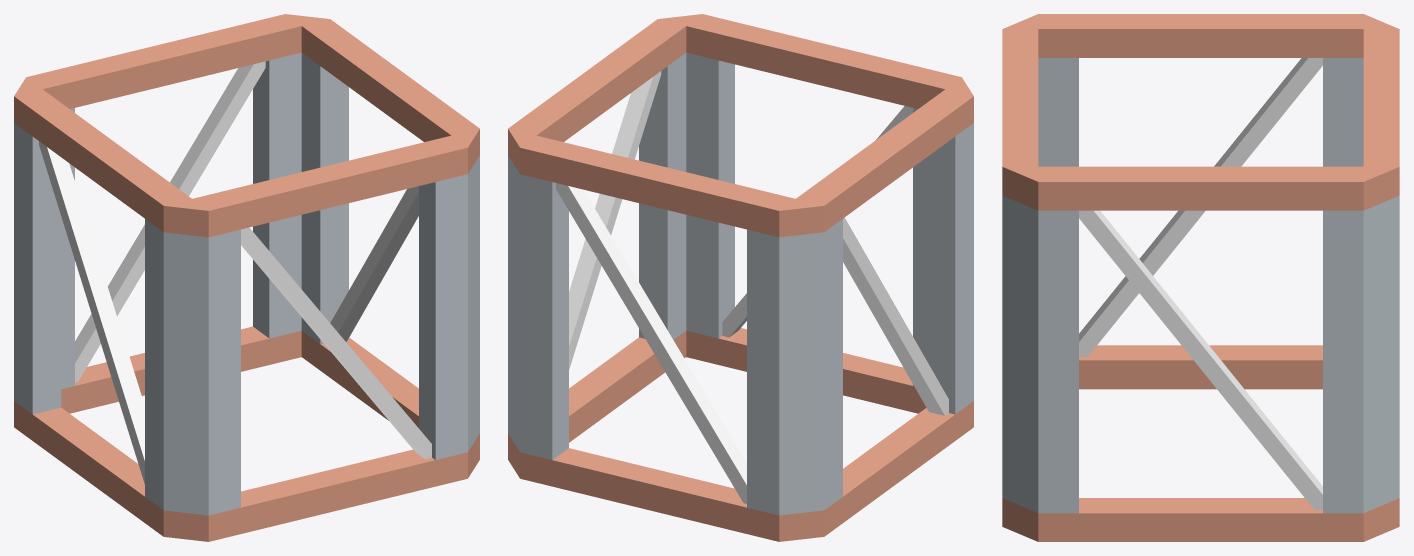
File: metalStructureCross.glb
3 views of the same model, side by side, from view 1: azimuth 30°, elevation 25°; view 2: azimuth 150°, elevation 25°; view 3: azimuth 270°, elevation 25° (orthographic). The views are drawn at different scales.
Parts seen in each view (by area): view 1: metalStructureCross; view 2: metalStructureCross; view 3: metalStructureCross.
Part boxes in pixels (x1,y1,x2,y2): metalStructureCross: [14, 14, 479, 541]; metalStructureCross: [508, 14, 973, 541]; metalStructureCross: [1002, 14, 1399, 541].
Bounding box in the file's own units: 10 × 10 × 10.
